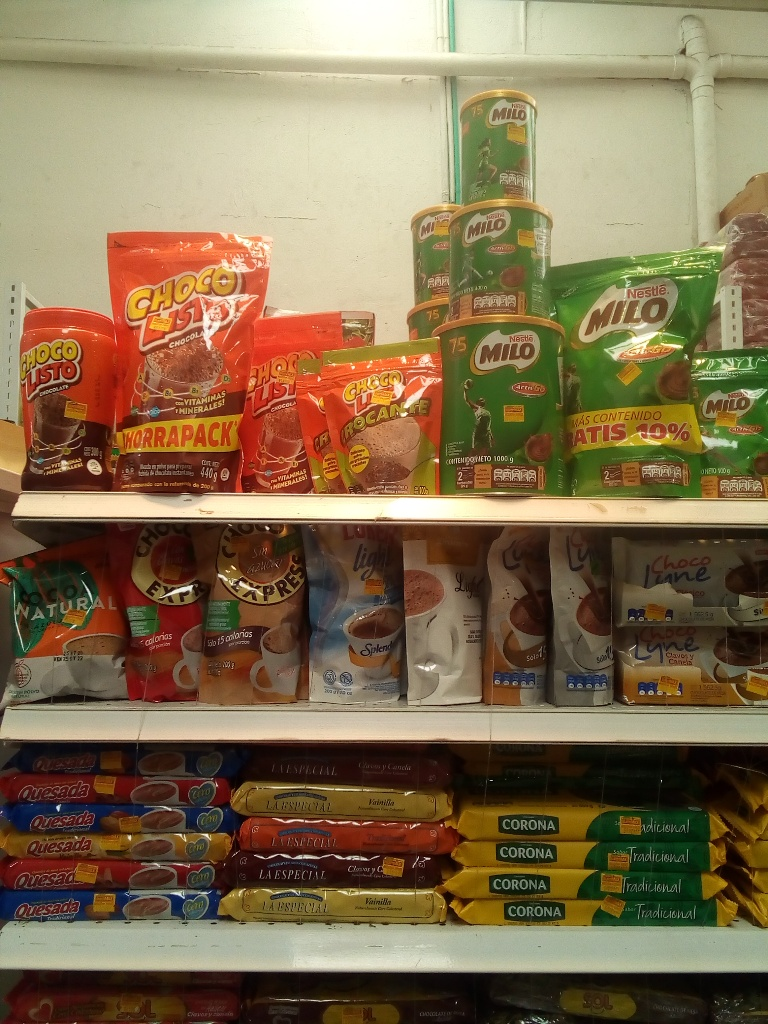COL0170102DYP10000: (320, 339, 443, 495)
COL0170103DYP20000: (255, 307, 377, 490)
COL0170103DYP44000: (103, 232, 276, 490)
COL0170103TRR30000: (21, 308, 116, 494)
COL0170203DYP10000: (693, 346, 767, 502)
COL0170203DYP50000: (559, 249, 724, 498)
COL0170203LAT20000: (457, 87, 543, 206)
COL0170203LAT40000: (450, 198, 557, 321)
